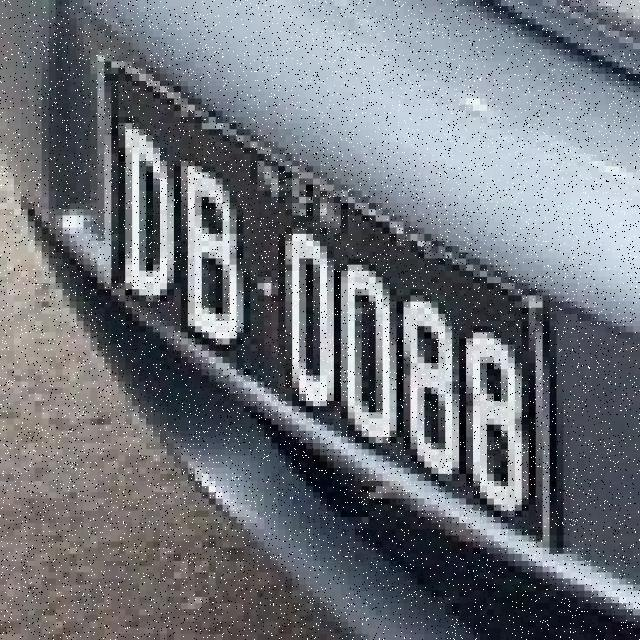LicensePlate: (55, 30, 595, 580)
